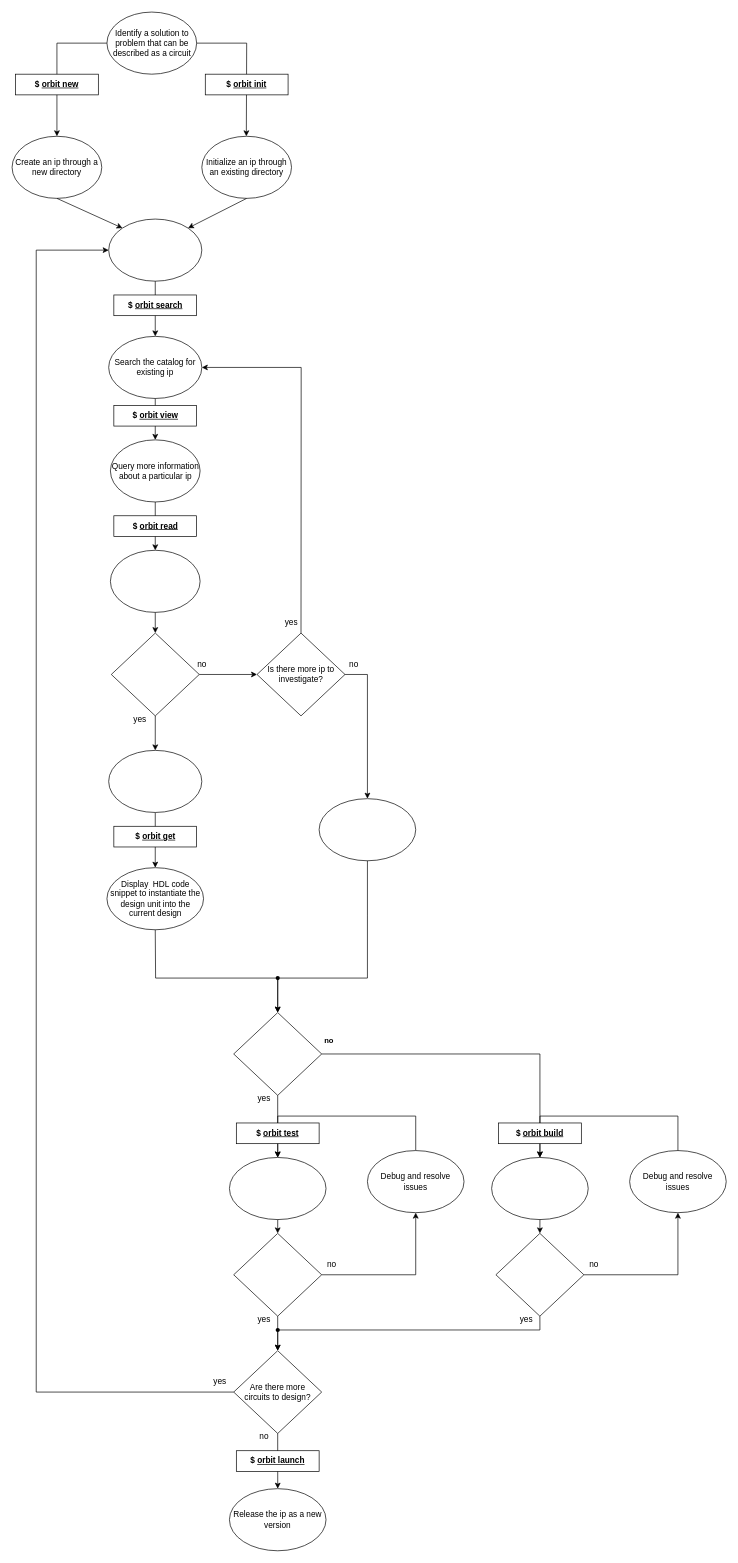
This 738x1563 diagram has some shape labels left out. The centre of each missing label's shape, as x and y in pixels:
"Add the particular ip as a dependency to the local project's manifest file" belongs at point 155,781.
"Are you using a testbench for simulation?" belongs at point 277,1053.
"Build the design (synthesis, timing analysis, etc.)" belongs at point 539,1188.
"Identify the next circuit to describe" belongs at point 155,249.
"Is there a suitable circuit to reuse?" belongs at point 155,674.
"Read inline documentation and circuit description" belongs at point 155,581.
"Test the design (simulation, etc.)" belongs at point 277,1188.
"Was the build successful?" belongs at point 539,1274.
"Was the test successful?" belongs at point 277,1274.
"Write new HDL code" belongs at point 367,829.
